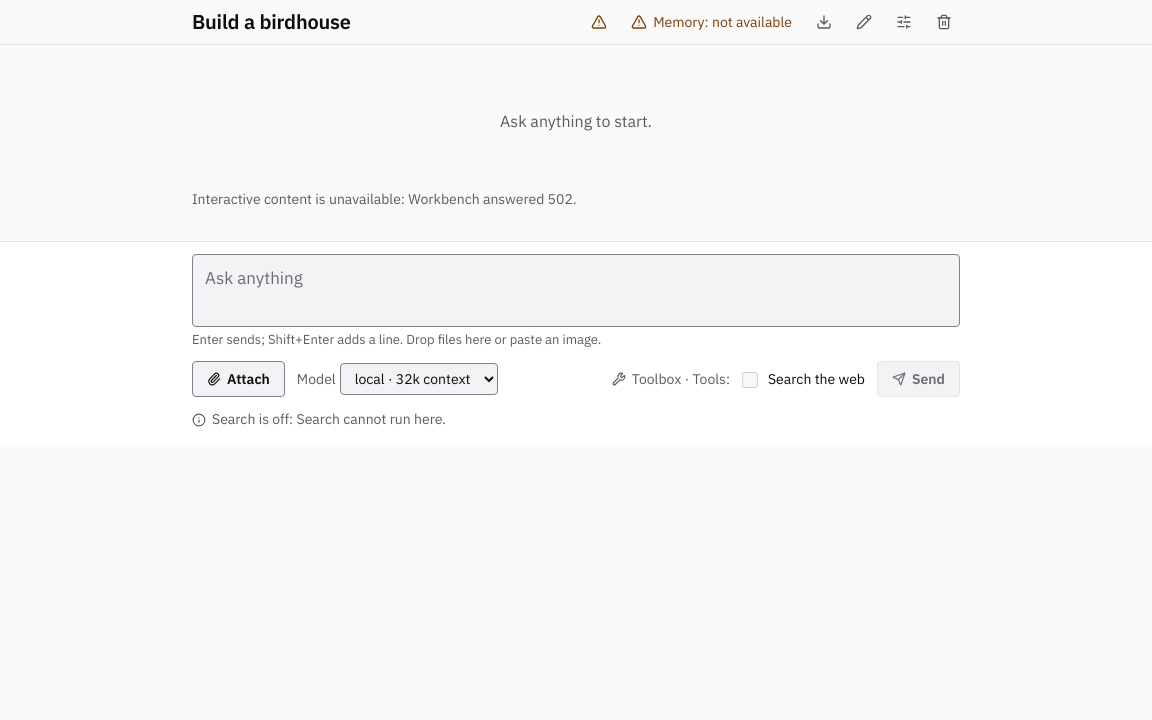
Memory in a chat › says plain Memory until it has read, and that it could not when it could not
The image size is (1152, 720).
Step 1. Click the button with test id "memory-chip" → click(712, 22), box [623,6,800,38]
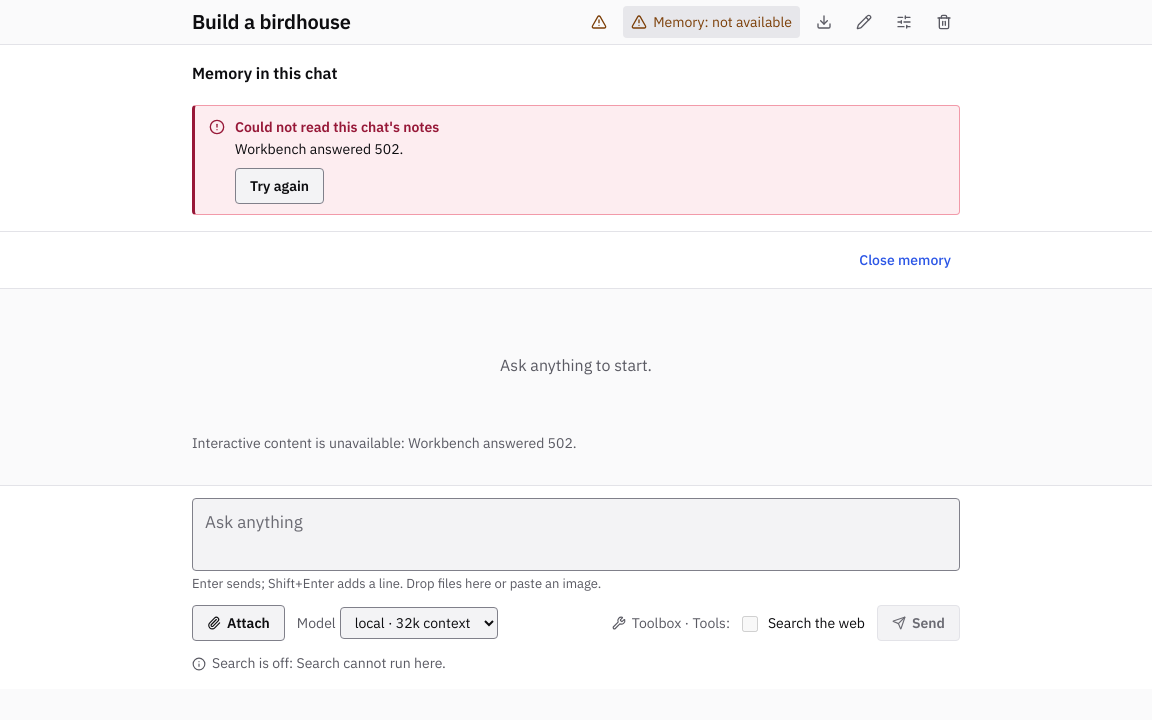
Check: the message "Could not read this chat's notes Workbench answered 502. Try again" is shown, box [192,105,960,215]
